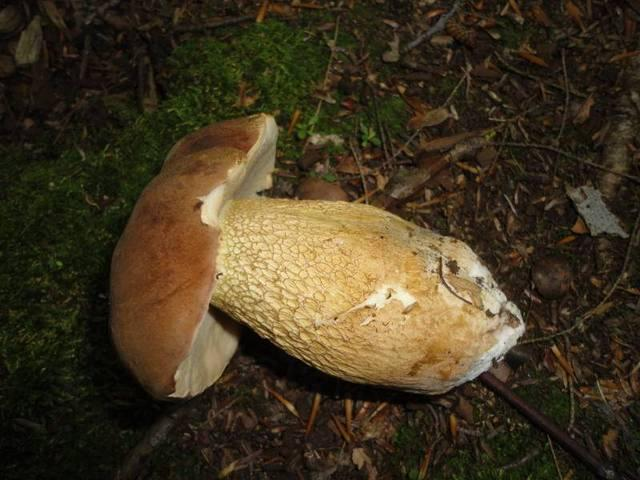poisonous_mushroom: (107, 111, 526, 403)
